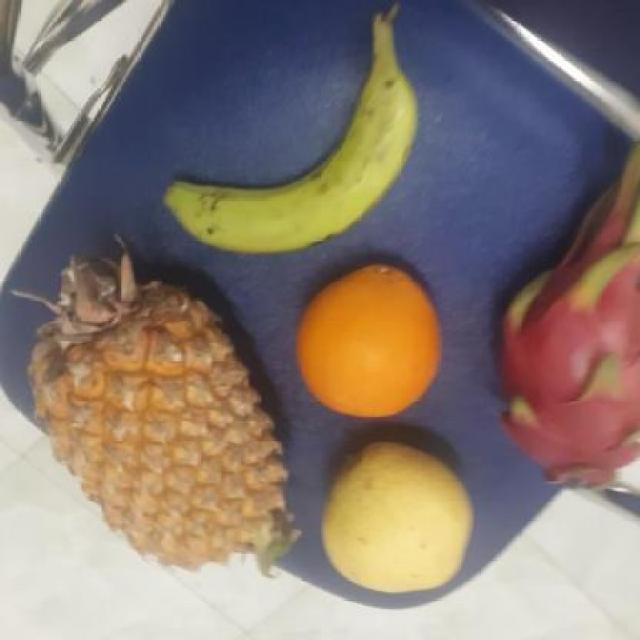banana: (175, 51, 429, 251)
dragon fruit: (494, 259, 638, 493)
oren: (295, 265, 448, 418)
pineapple: (36, 246, 296, 566)
